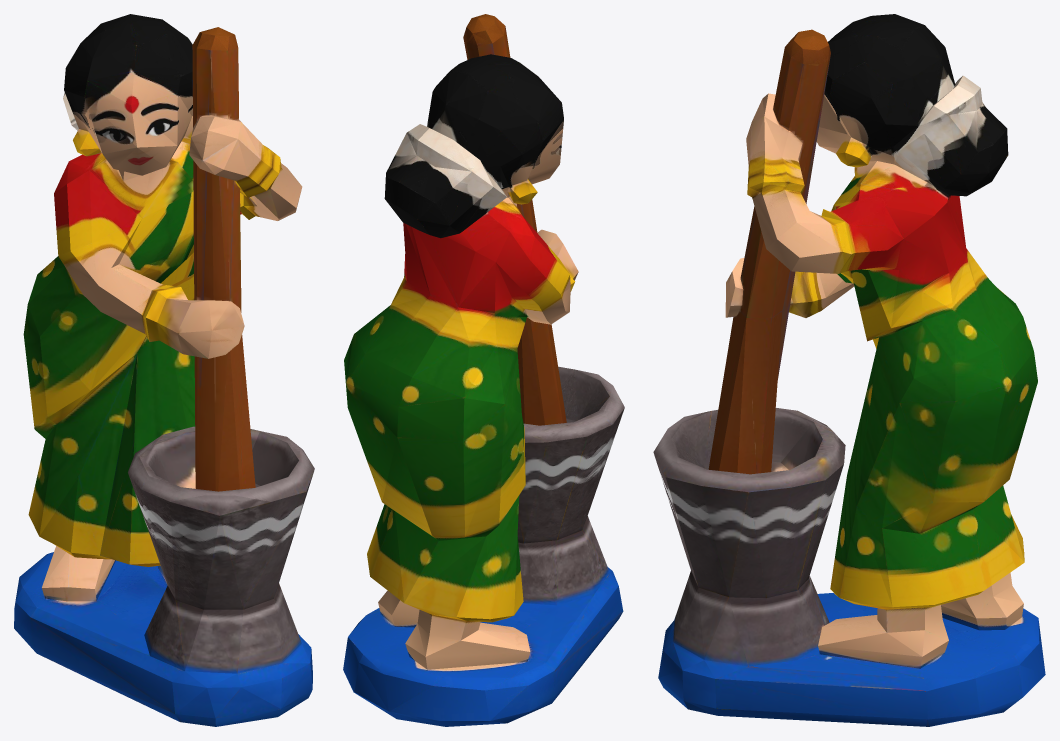
File: women_mortar_pestle.glb
3 views of the same model, side by side, from view 1: azimuth 30°, elevation 25°; view 2: azimuth 150°, elevation 25°; view 3: azimuth 270°, elevation 25° (orthographic). The views are drawn at different scales.
Parts seen in each view (by area): view 1: mesh_000; view 2: mesh_000; view 3: mesh_000.
Part boxes in pixels (bbox=[...]): mesh_000: bbox=[14, 14, 314, 726]; mesh_000: bbox=[343, 14, 624, 726]; mesh_000: bbox=[653, 14, 1045, 726].
Size of the model in its own units: 0.3257 by 0.9526 by 0.5142.
1 material, 1 textured.
